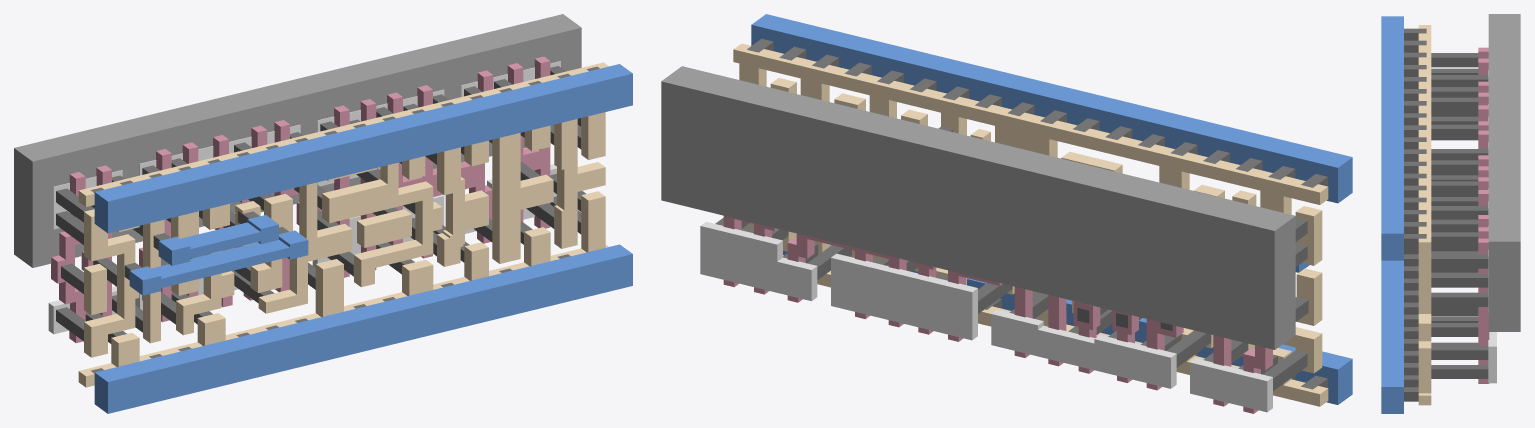
Rendered from sky130_fd_sc_hd__dlrbn_2.gds.gltf.
3 renders of one model, left to right at view 1: azimuth 30°, elevation 25°; view 2: azimuth 150°, elevation 25°; view 3: azimuth 270°, elevation 25°, orthographic. The views are drawn at different scales.
Parts seen in each view (by area): view 1: sky130_fd_sc_hd__dlrbn_2_met1, sky130_fd_sc_hd__dlrbn_2_li1, sky130_fd_sc_hd__dlrbn_2_nwell, sky130_fd_sc_hd__dlrbn_2_poly, sky130_fd_sc_hd__dlrbn_2_licon, sky130_fd_sc_hd__dlrbn_2_diff, sky130_fd_sc_hd__dlrbn_2_mcon; view 2: sky130_fd_sc_hd__dlrbn_2_nwell, sky130_fd_sc_hd__dlrbn_2_li1, sky130_fd_sc_hd__dlrbn_2_diff, sky130_fd_sc_hd__dlrbn_2_met1, sky130_fd_sc_hd__dlrbn_2_poly, sky130_fd_sc_hd__dlrbn_2_licon, sky130_fd_sc_hd__dlrbn_2_mcon; view 3: sky130_fd_sc_hd__dlrbn_2_licon, sky130_fd_sc_hd__dlrbn_2_nwell, sky130_fd_sc_hd__dlrbn_2_met1, sky130_fd_sc_hd__dlrbn_2_mcon, sky130_fd_sc_hd__dlrbn_2_li1, sky130_fd_sc_hd__dlrbn_2_poly, sky130_fd_sc_hd__dlrbn_2_diff.
Boxes of the visible parts, left/top/right/bottom form: sky130_fd_sc_hd__dlrbn_2_met1: left=94, top=64, right=632, bottom=413; sky130_fd_sc_hd__dlrbn_2_li1: left=78, top=62, right=608, bottom=387; sky130_fd_sc_hd__dlrbn_2_nwell: left=14, top=14, right=581, bottom=267; sky130_fd_sc_hd__dlrbn_2_poly: left=51, top=56, right=550, bottom=343; sky130_fd_sc_hd__dlrbn_2_licon: left=56, top=66, right=585, bottom=343; sky130_fd_sc_hd__dlrbn_2_diff: left=48, top=61, right=560, bottom=334; sky130_fd_sc_hd__dlrbn_2_mcon: left=90, top=66, right=599, bottom=373; sky130_fd_sc_hd__dlrbn_2_nwell: left=661, top=66, right=1295, bottom=349; sky130_fd_sc_hd__dlrbn_2_li1: left=733, top=43, right=1328, bottom=406; sky130_fd_sc_hd__dlrbn_2_diff: left=700, top=221, right=1272, bottom=412; sky130_fd_sc_hd__dlrbn_2_met1: left=751, top=14, right=1352, bottom=404; sky130_fd_sc_hd__dlrbn_2_poly: left=723, top=216, right=1272, bottom=413; sky130_fd_sc_hd__dlrbn_2_licon: left=715, top=80, right=1308, bottom=391; sky130_fd_sc_hd__dlrbn_2_mcon: left=747, top=38, right=1327, bottom=389; sky130_fd_sc_hd__dlrbn_2_licon: left=1431, top=53, right=1488, bottom=378; sky130_fd_sc_hd__dlrbn_2_nwell: left=1488, top=14, right=1520, bottom=331; sky130_fd_sc_hd__dlrbn_2_met1: left=1381, top=16, right=1403, bottom=413; sky130_fd_sc_hd__dlrbn_2_mcon: left=1404, top=28, right=1426, bottom=401; sky130_fd_sc_hd__dlrbn_2_li1: left=1418, top=25, right=1431, bottom=405; sky130_fd_sc_hd__dlrbn_2_poly: left=1478, top=47, right=1489, bottom=383; sky130_fd_sc_hd__dlrbn_2_diff: left=1488, top=70, right=1496, bottom=383.
Bounding box in the file's own units: 8.66 × 3.2 × 2.24.
